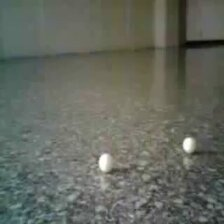w: (98, 153, 114, 172), (183, 137, 196, 154)
